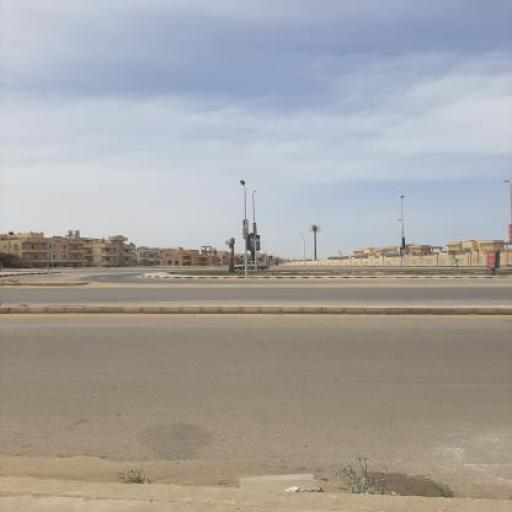street light: (240, 180, 249, 274), (502, 180, 512, 252), (400, 196, 407, 266), (252, 191, 258, 270), (299, 233, 307, 260)
